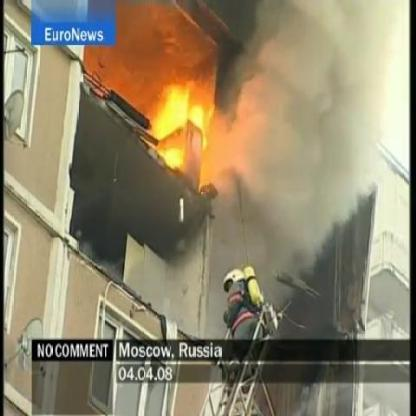fire: (143, 75, 218, 169)
